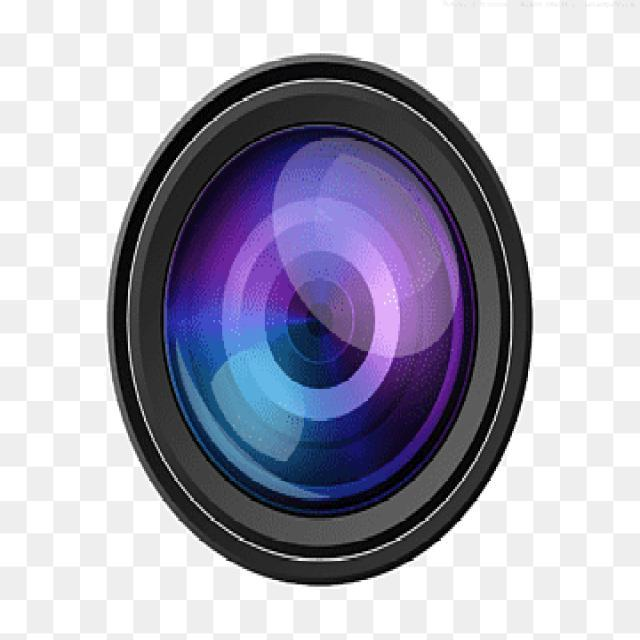hidden camera: (124, 87, 518, 559)
